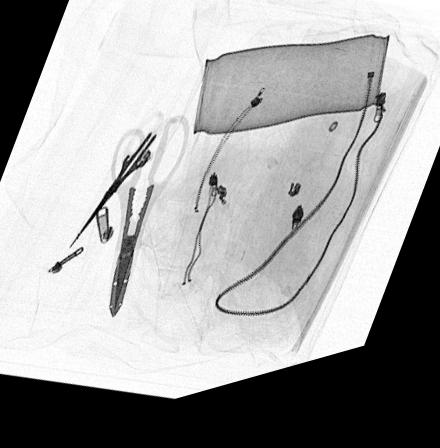Scissors: (105, 121, 195, 328), (63, 138, 157, 257)
